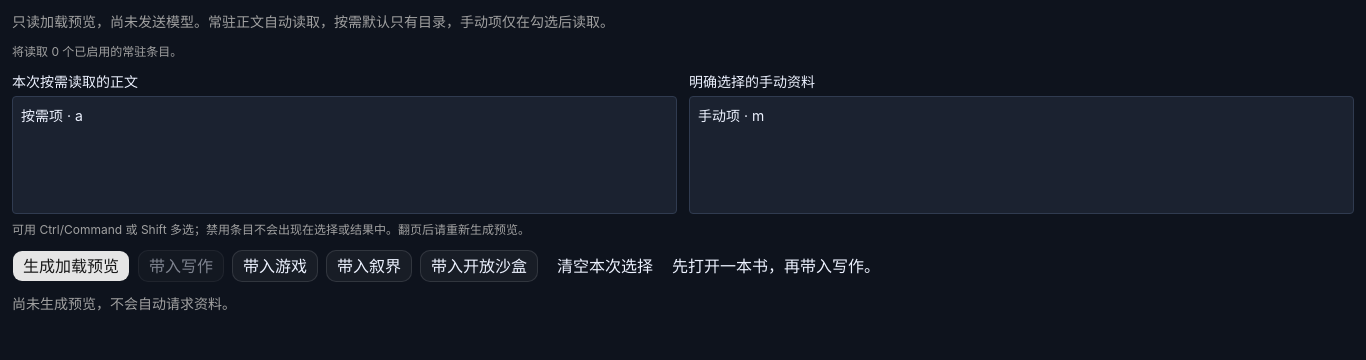
Scenario: library launch to Narraverse (B4a) › refuses to launch when the secure host session is unavailable
Click the button "带入叙界" at (369, 266), box [326,250,412,282]
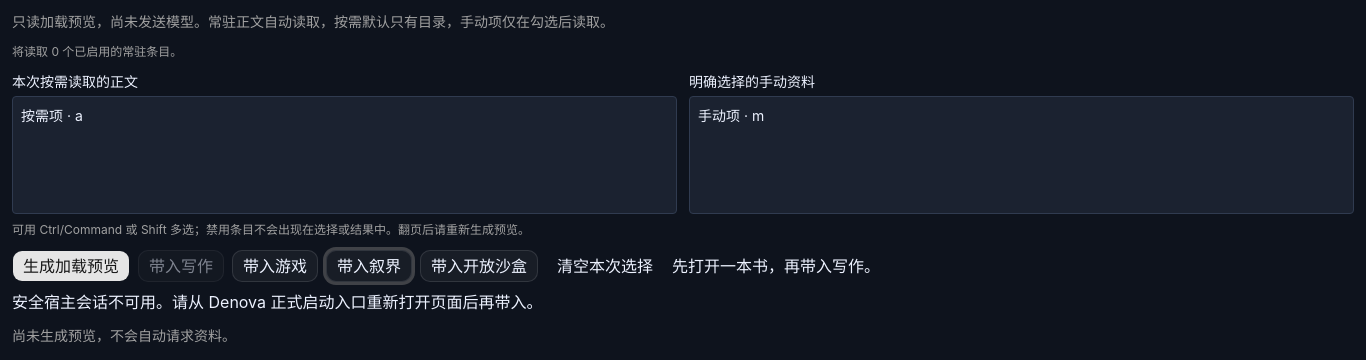
Now the message "安全宿主会话不可用。请从 Denova 正式启动入口重新打开页面后再带入。" is shown, box [12,290,542,314]
